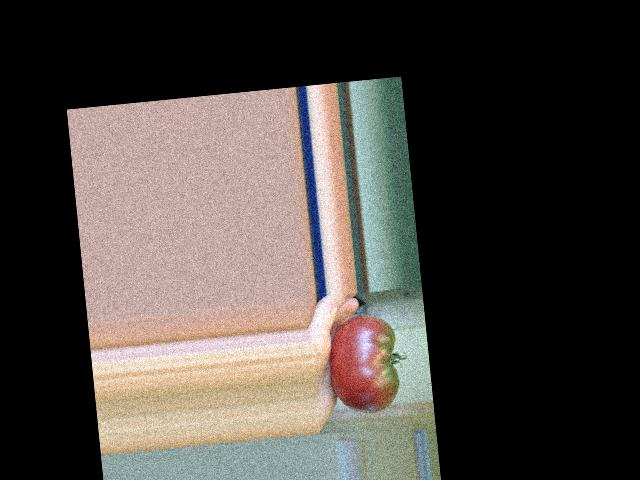tomato: (325, 312, 402, 416)
